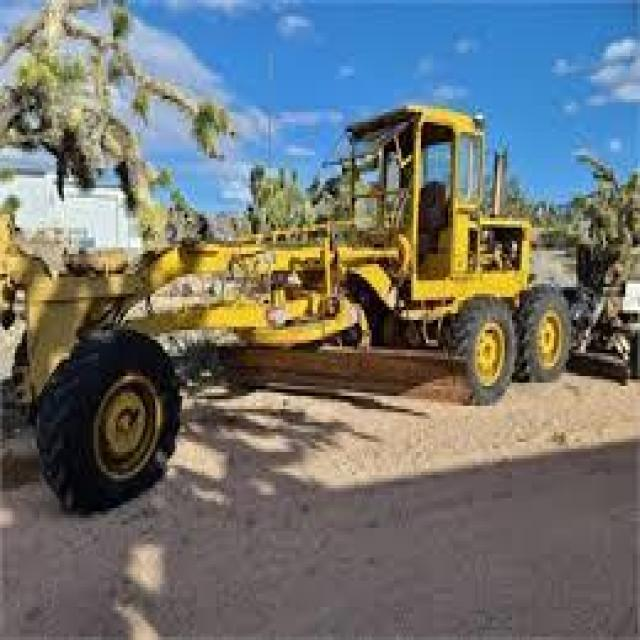Grader: (2, 89, 588, 521)
